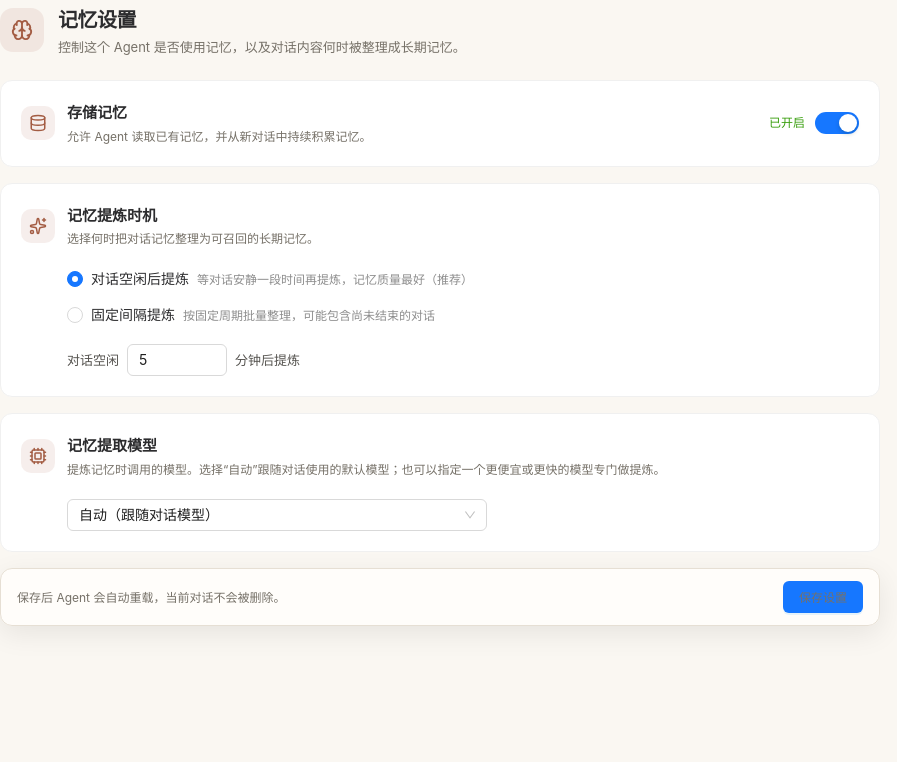
Test: <MemorySettings /> › explains exactly what happens when memory is disabled
Expected: the text "存储记忆" is shown, [67,103,127,122]
What coordinates should you click on to do the following:
click the switch
I would click on:
 (837, 123)
Its box is [815,112,859,134].
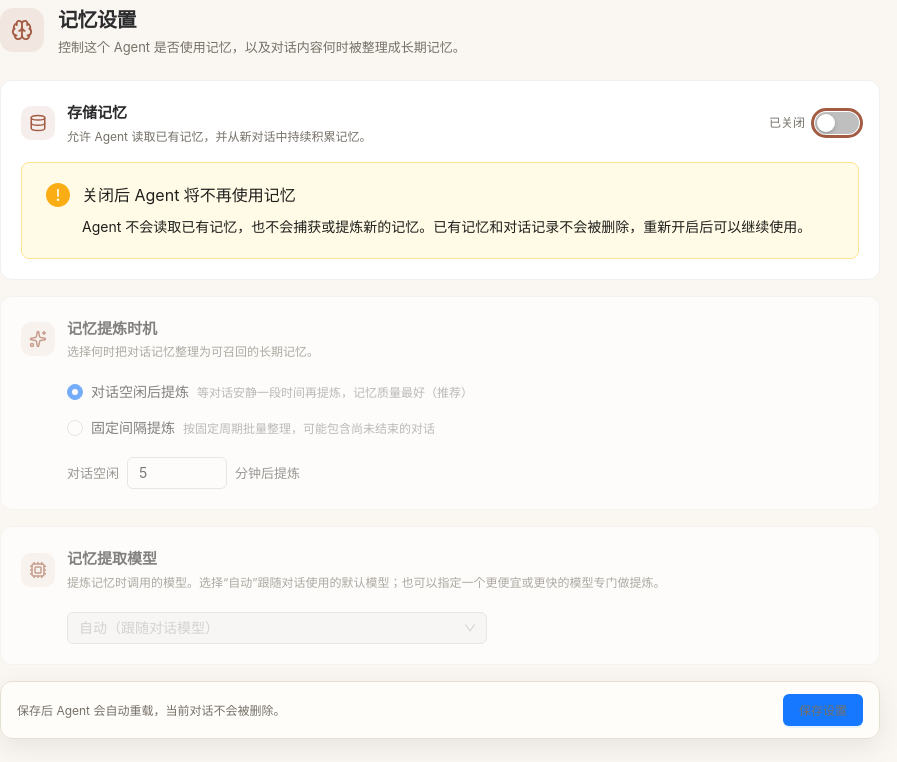
Expected: the text "关闭后 Agent 将不再使用记忆" is shown, [82,185,296,205]
Expected: the text "Agent 不会读取已有记忆，也不会捕获或提炼新的记忆。已有记忆和对话记录不会被删除，重新开启后可以继续使用。" is shown, [82,216,834,238]
